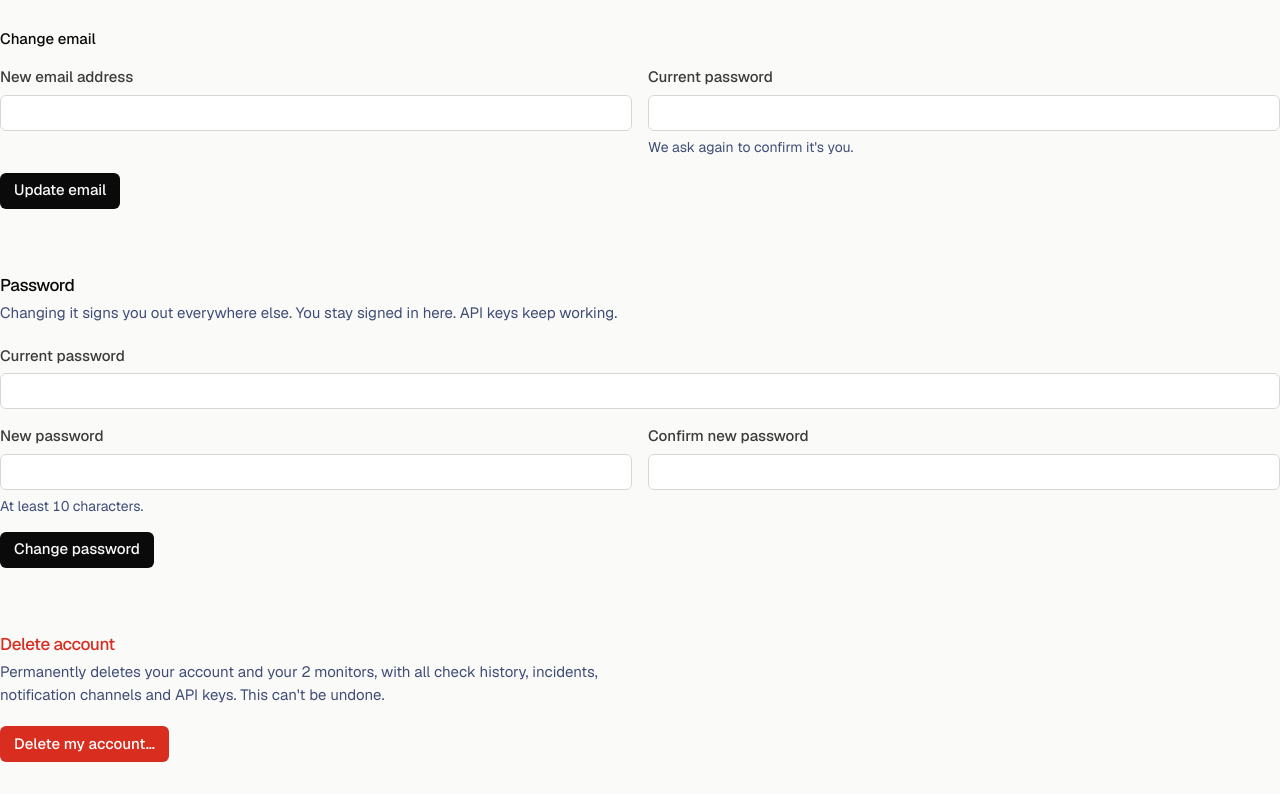
Test: Account settings › keeps the dialog open with an error if deletion is refused
The width and height of the screenshot is (1280, 794).
(page scrolled)
Click the button "Delete my account…" at (84, 744), box [0,726,169,762]
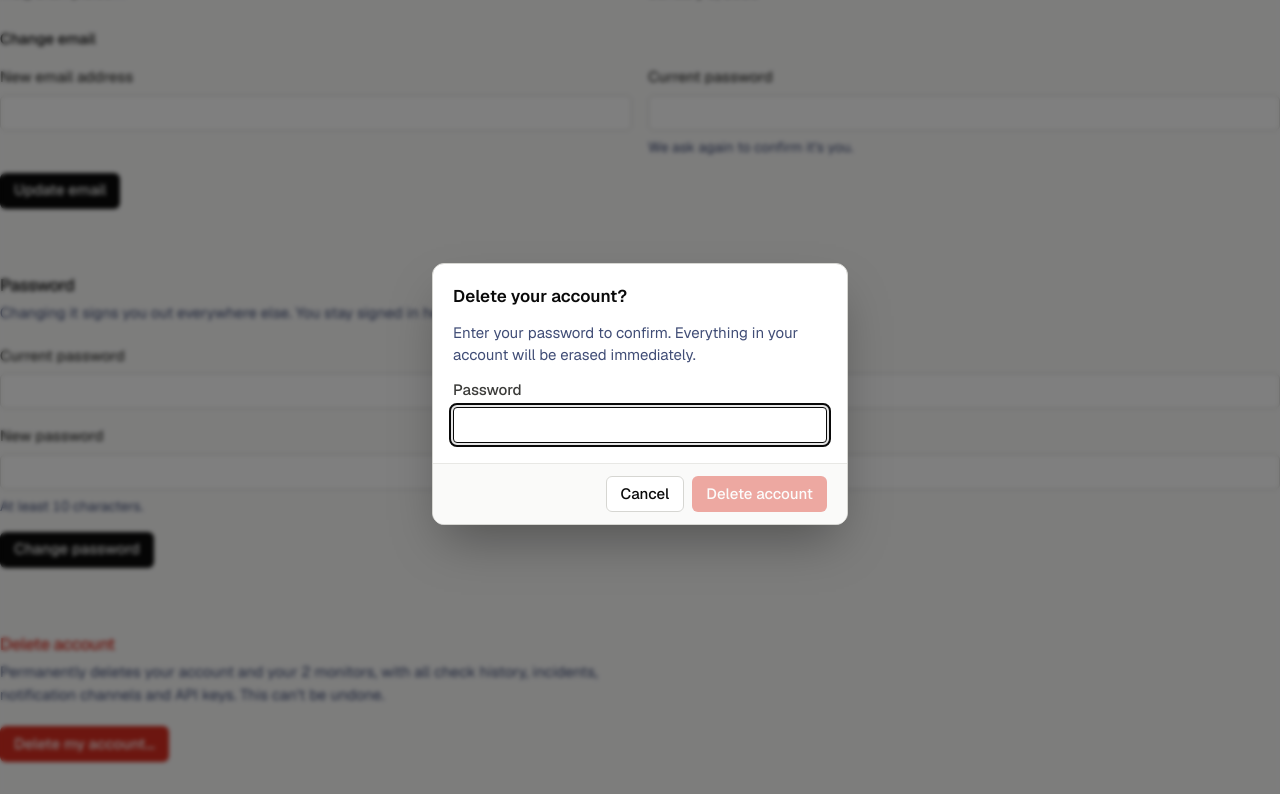
Type "wrong" into the password field labelled "Password" at (640, 425), box [453,407,827,443]
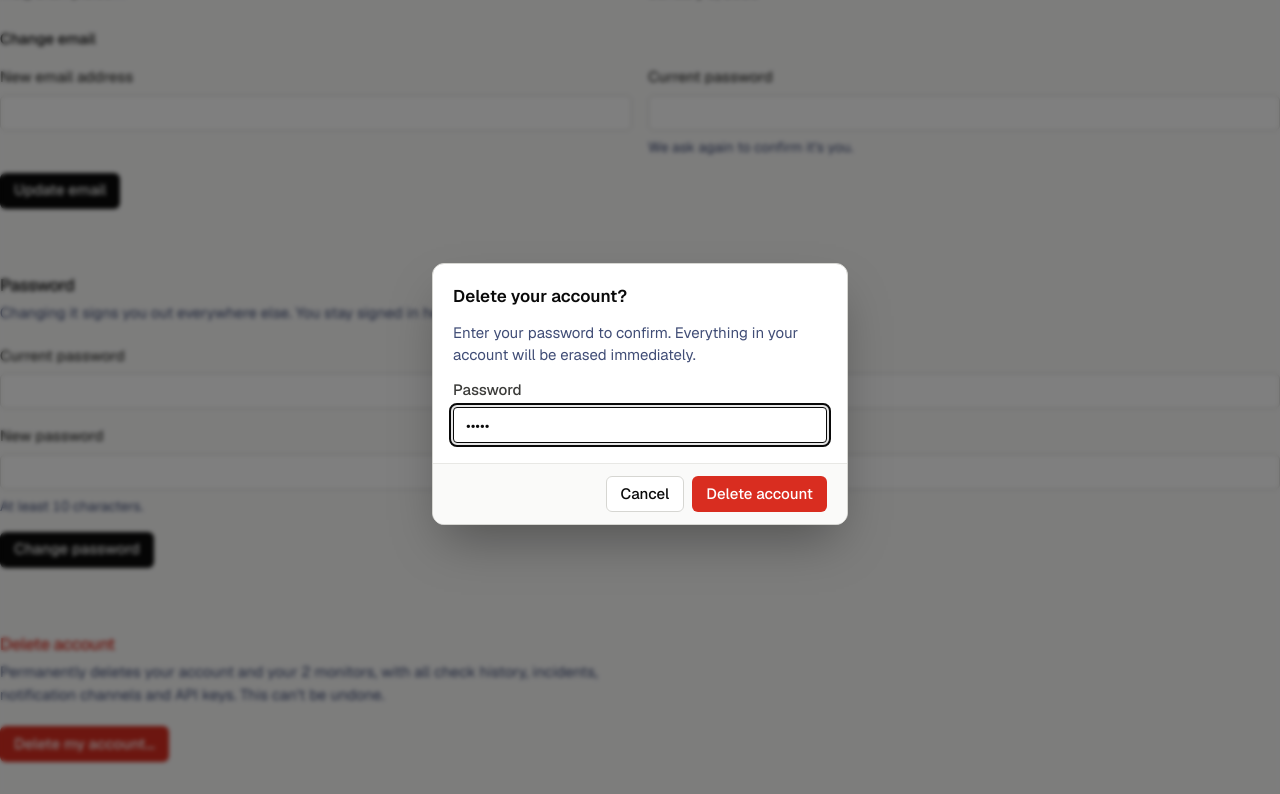
Click the button "Delete account" at (760, 494), box [692,476,827,512]
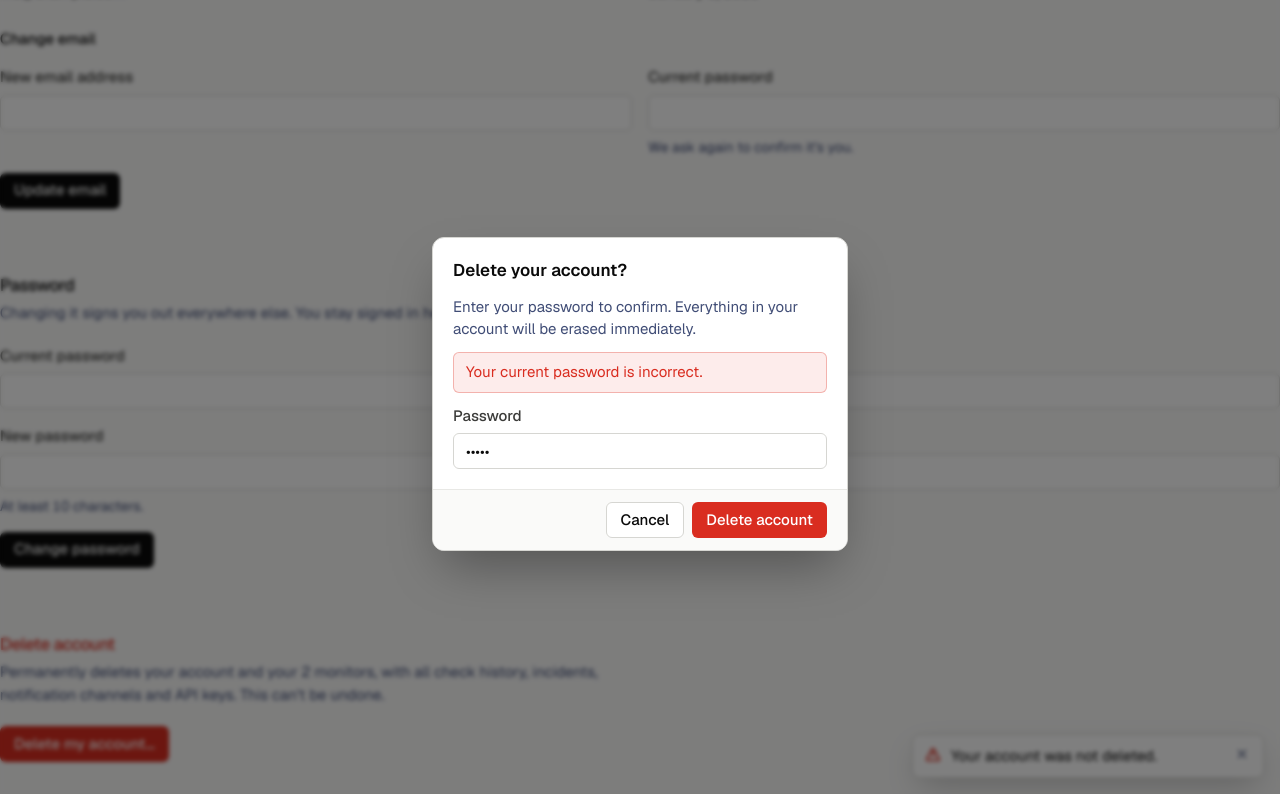
Now the text "Your current password is incorrect." is shown, box [453,352,827,393]
